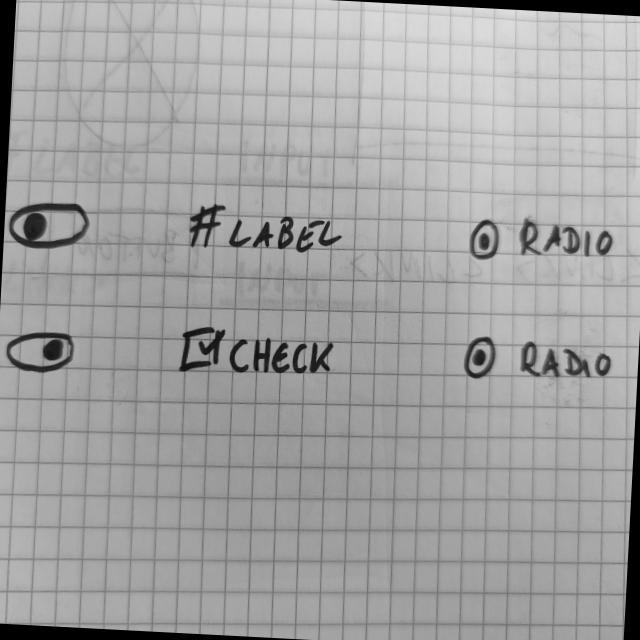checkbox: (178, 321, 339, 388)
label: (187, 199, 348, 260)
radio: (467, 213, 505, 274), (463, 335, 501, 388)
toggle: (5, 199, 95, 255), (6, 327, 79, 379)
